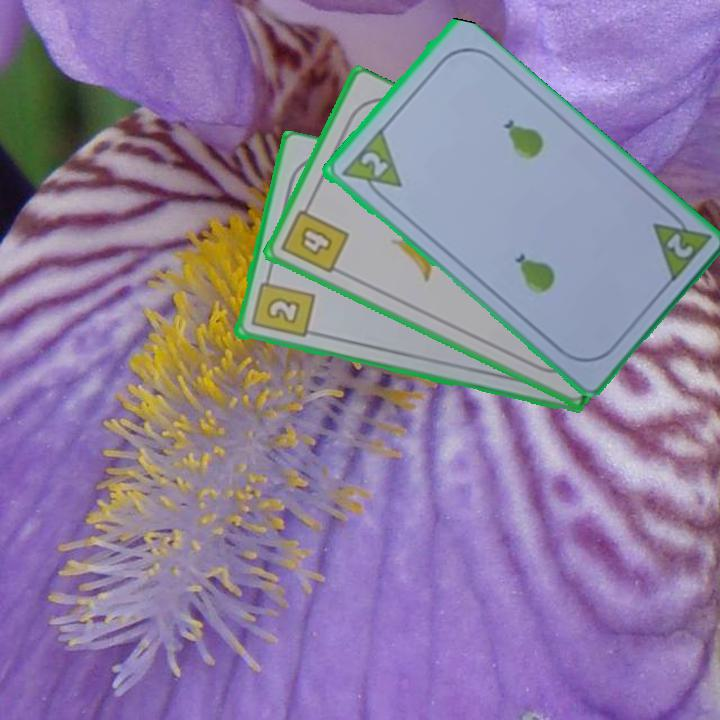2b: (247, 270, 316, 341)
2p: (336, 127, 405, 206), (648, 203, 712, 287)
4b: (277, 198, 352, 277)
